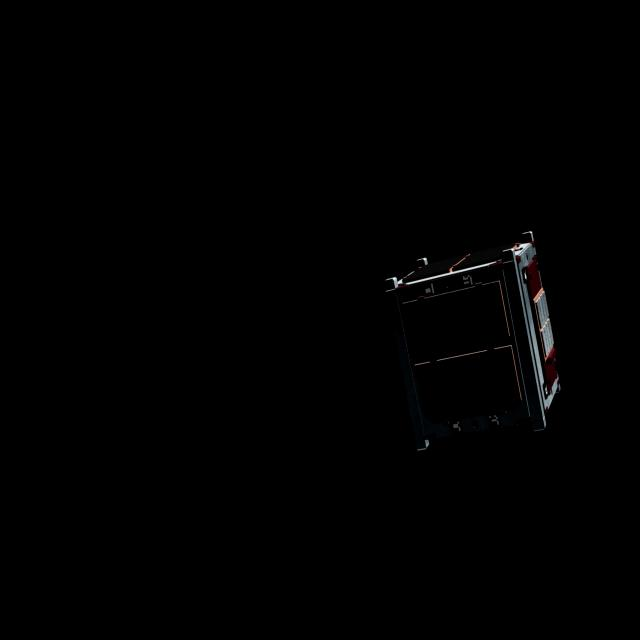medium_debris: (383, 220, 579, 458)
